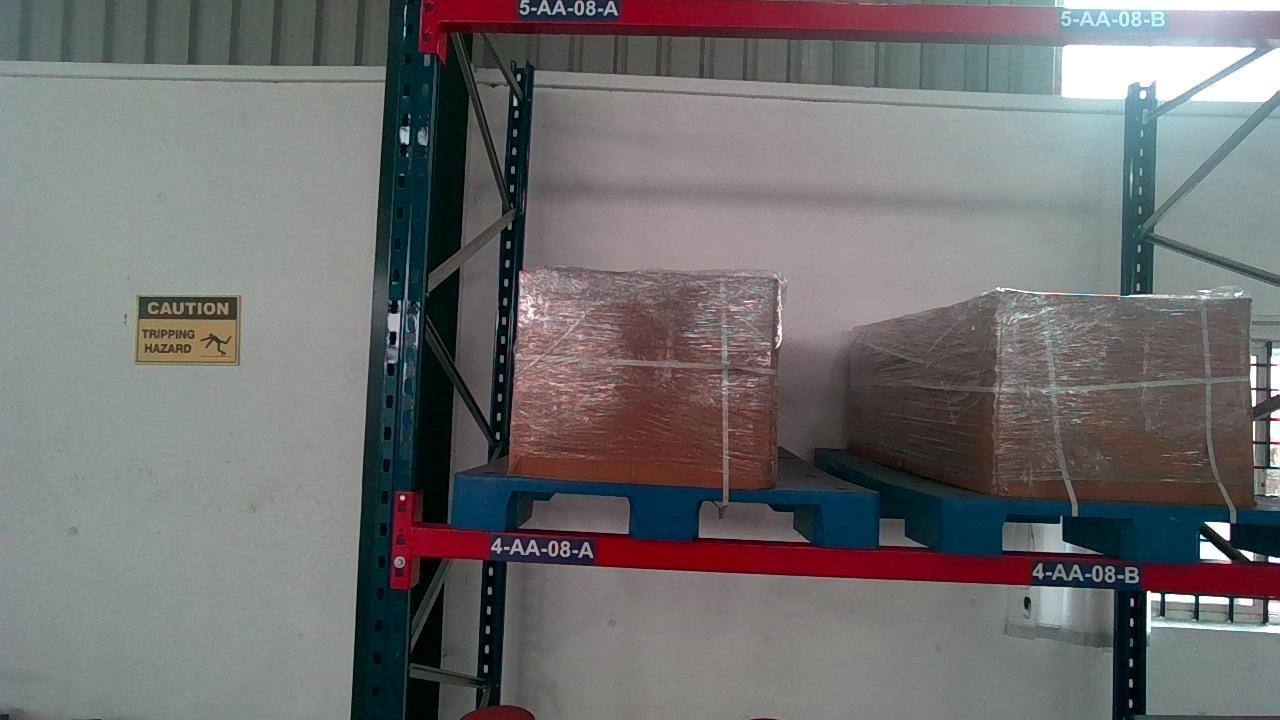h_rack: (414, 533, 1280, 595), (449, 0, 1279, 36)
small_pallet: (448, 482, 879, 539), (955, 501, 1277, 558)
yellow_line: (1044, 37, 1280, 94)
